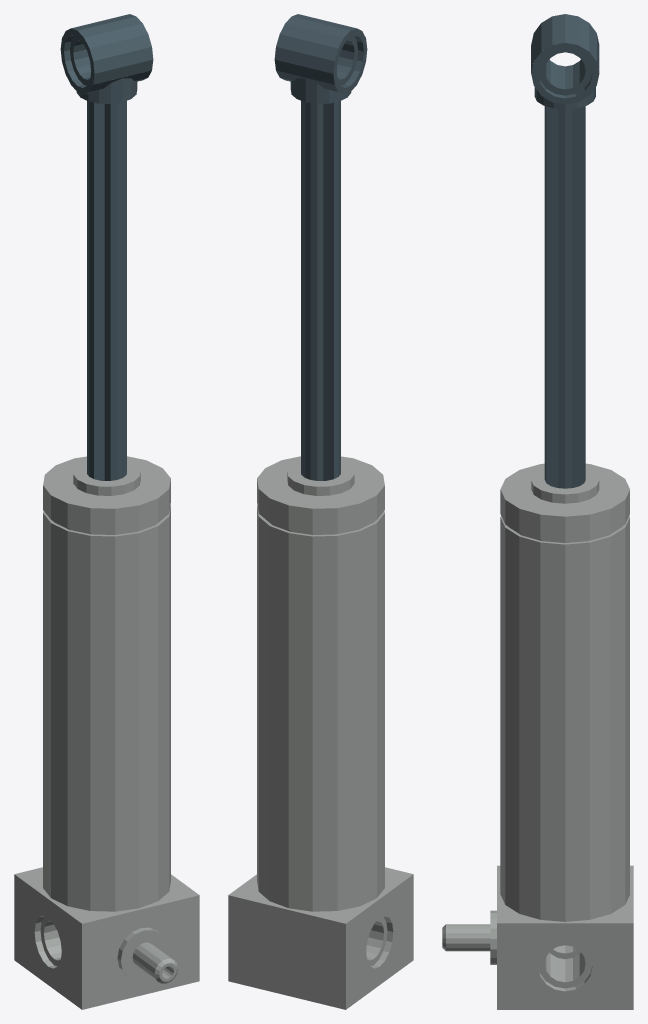
The picture shows the model from 3 angles, left to right: view 1: azimuth 30°, elevation 25°; view 2: azimuth 150°, elevation 25°; view 3: azimuth 270°, elevation 25°; orthographic projection.
Visible parts, largest first — view 1: world; view 2: world; view 3: world.
Boxes of the visible parts, x1,y1,x2,y2 form: world: (14,14,199,1009); world: (228,14,413,1009); world: (442,14,633,1009).
Size of the model in its own units: 0.016 by 0.1232 by 0.0224.
